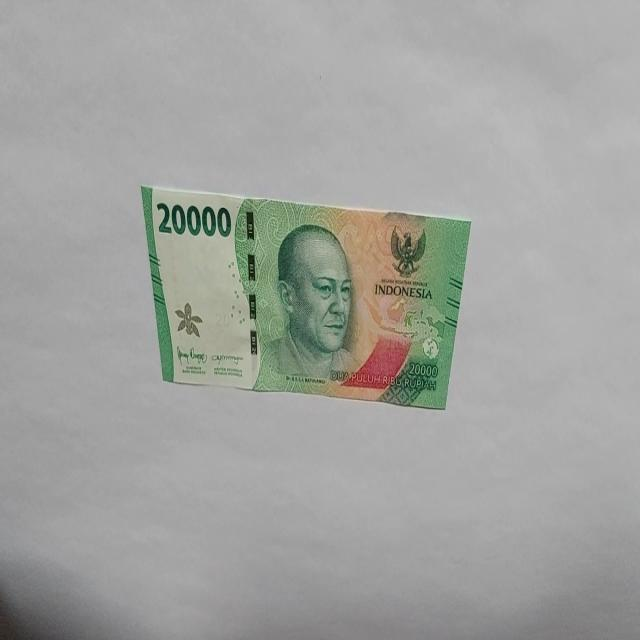dua puluh ribu rupiah: (140, 182, 472, 410)
